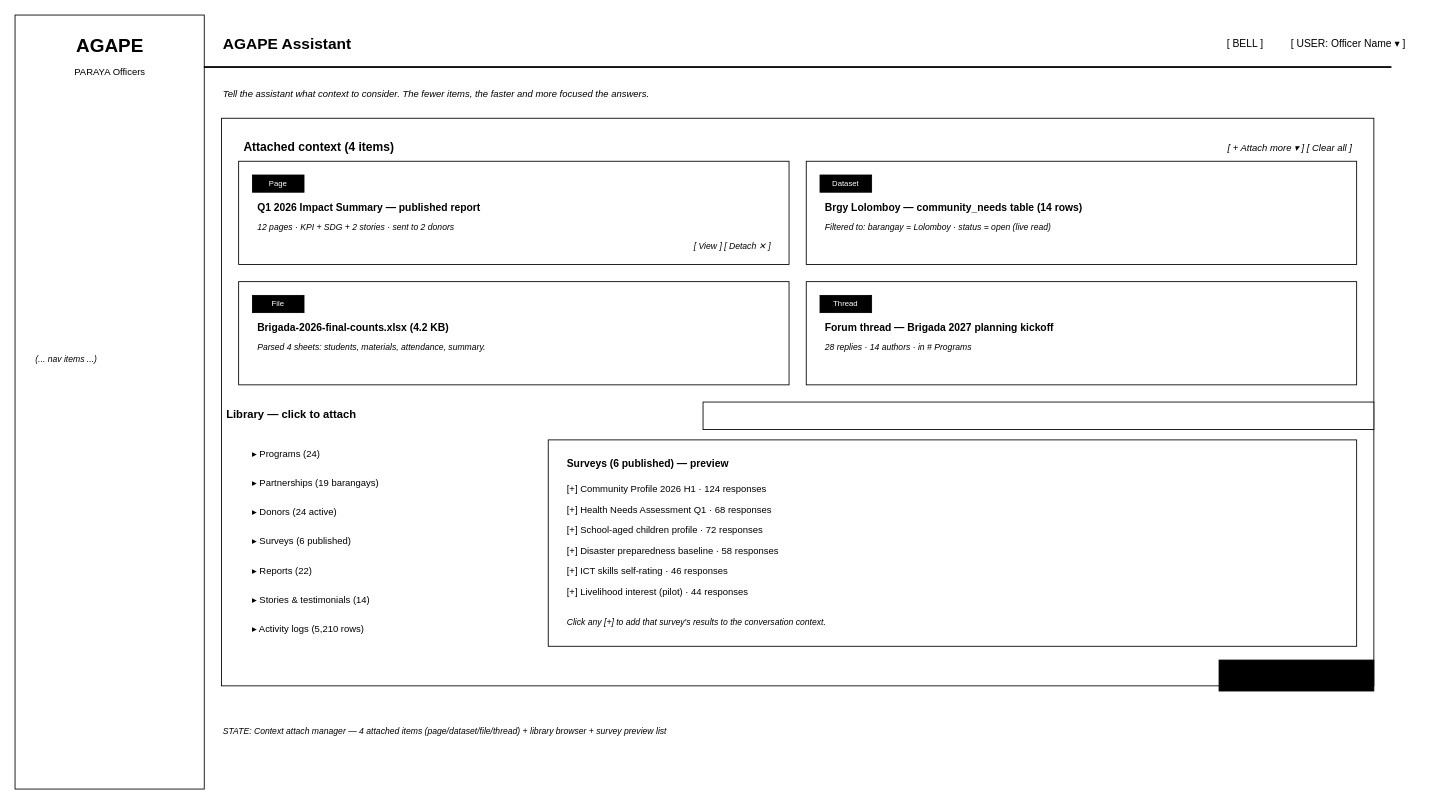
Some shapes in this 1441 by 804 pixel diagram are drawn without their labels. The shapes that lost their labels are listed below. From the top down, each one's centre as x and y in pixels, then its label:
the point at 1038,415: | Search programs, reports, donors, threads…
the point at 1296,675: [ Done & back to chat ]
